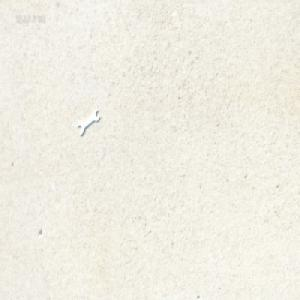Wrench: (77, 109, 100, 138)
